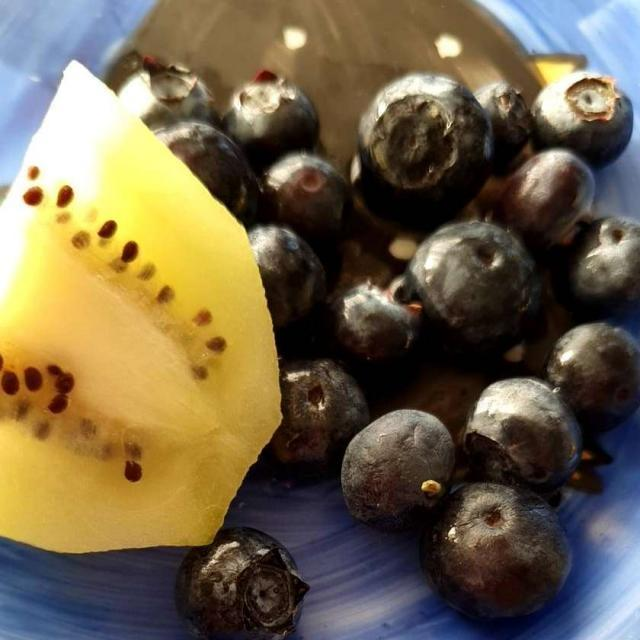blueberries: (111, 49, 639, 628)
kiwi: (4, 54, 297, 561)
